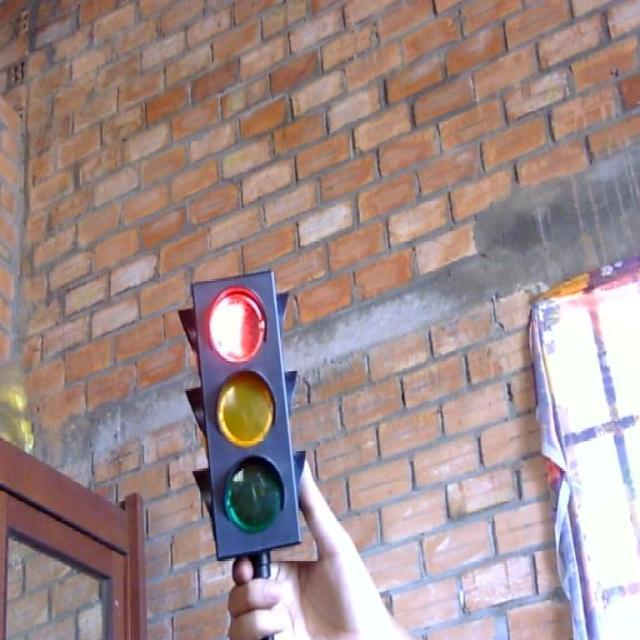red light: (200, 279, 274, 371)
